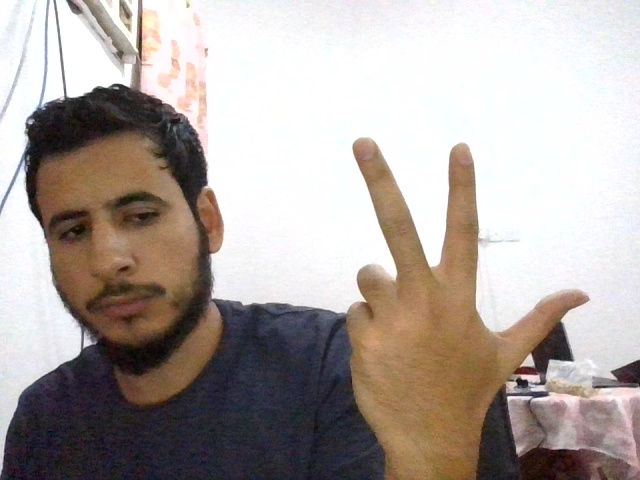Three: (346, 137, 590, 446)
